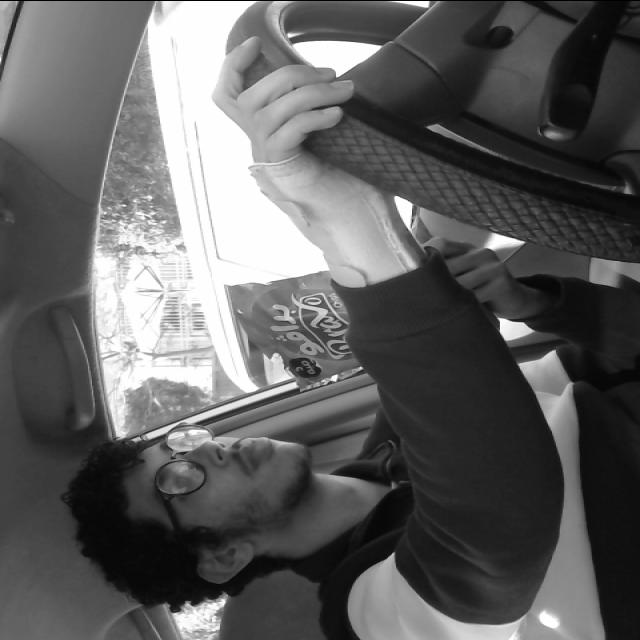eating: (215, 214, 498, 394)
